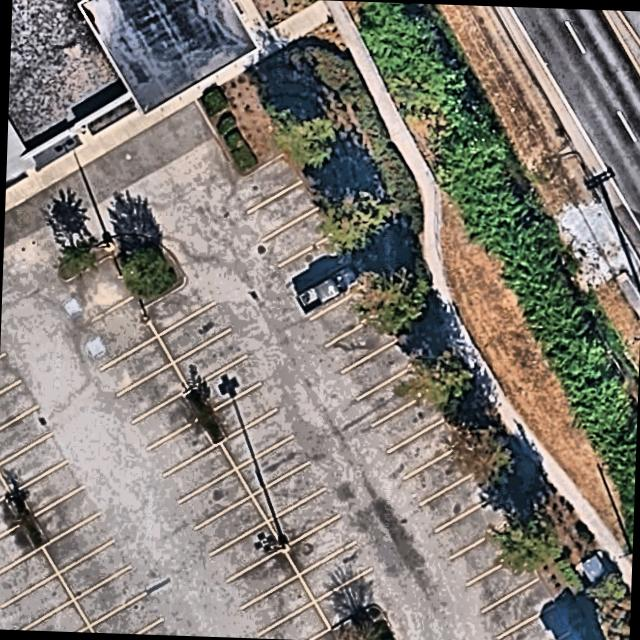car: (289, 255, 368, 316)
lot_boundary: (0, 64, 588, 640)
objects: (194, 63, 301, 176), (56, 231, 186, 308), (328, 604, 395, 640), (182, 386, 225, 441), (5, 491, 45, 547)
stall: (76, 296, 157, 368), (51, 255, 132, 327), (293, 251, 378, 319), (387, 411, 471, 478), (308, 278, 392, 345), (230, 143, 314, 210), (357, 358, 440, 425), (450, 517, 533, 584), (420, 465, 503, 532), (262, 199, 345, 266), (403, 438, 487, 504), (465, 545, 549, 611), (326, 305, 409, 371), (372, 385, 455, 451), (342, 331, 425, 397), (435, 491, 518, 557), (481, 573, 564, 639), (279, 224, 362, 290), (248, 172, 331, 238), (281, 514, 356, 575), (299, 541, 373, 602), (240, 575, 314, 636), (250, 462, 324, 523), (266, 488, 340, 549), (114, 362, 188, 423), (219, 409, 293, 470), (140, 275, 214, 336), (234, 436, 309, 496), (171, 329, 246, 389), (177, 469, 251, 529), (314, 569, 388, 629), (225, 549, 299, 609), (193, 496, 267, 556), (209, 522, 283, 582), (98, 336, 172, 396), (161, 442, 235, 502), (155, 303, 229, 363), (72, 565, 143, 625), (42, 512, 112, 572), (58, 540, 129, 599), (2, 572, 72, 630), (0, 433, 64, 492), (129, 393, 196, 449), (195, 355, 262, 411), (209, 382, 276, 438), (145, 419, 212, 475), (33, 486, 97, 542), (497, 597, 580, 640), (17, 461, 81, 515), (0, 545, 56, 605), (89, 593, 160, 634), (255, 602, 329, 640), (0, 406, 49, 462), (22, 598, 88, 632), (0, 380, 33, 429), (0, 525, 33, 571), (0, 498, 18, 533), (554, 626, 586, 640)
